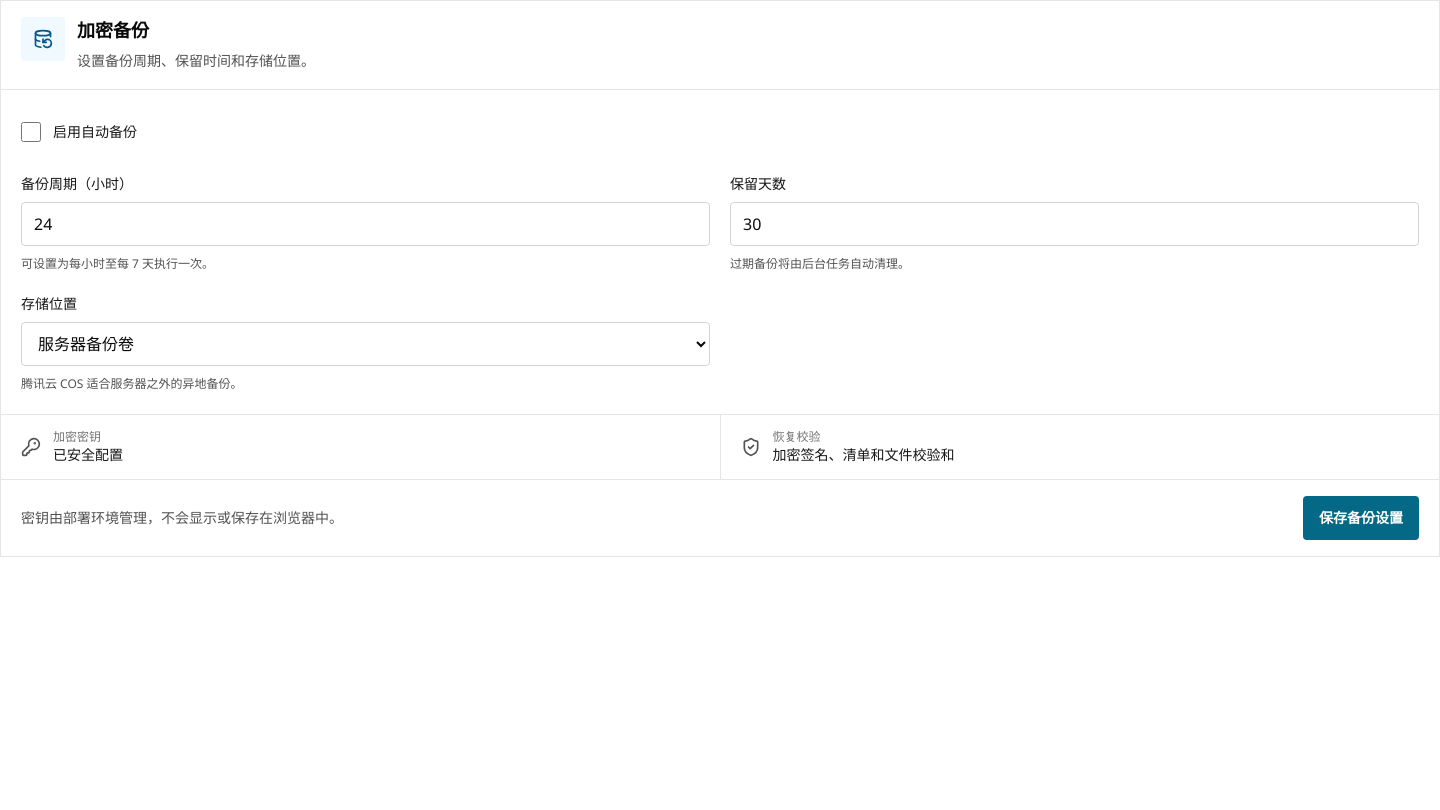
Test: BackupSettingsForm › reports save results entirely in Chinese
Click the button "保存备份设置": {"x": 1361, "y": 518} [1303, 496, 1419, 540]
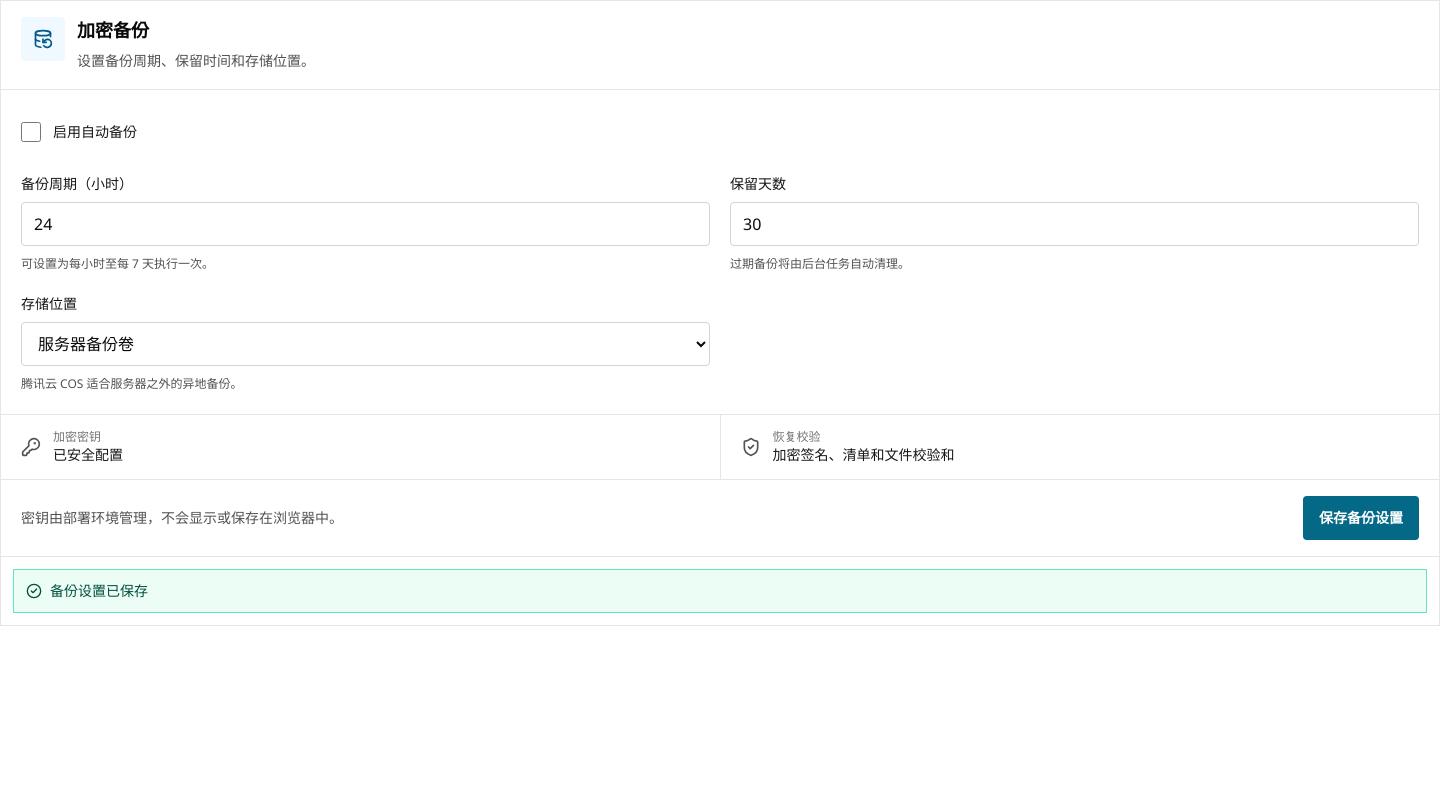
Now the text "备份设置已保存" is shown, box [50, 581, 148, 600]
